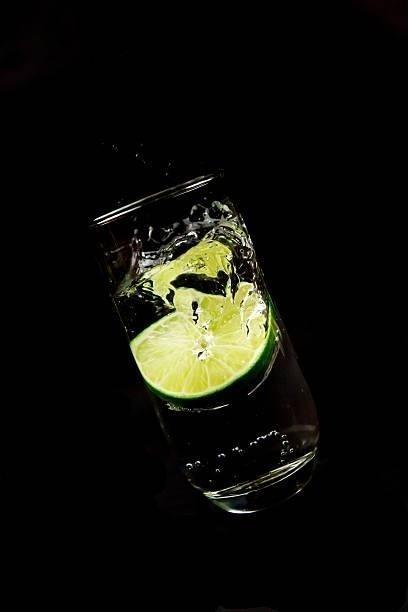glass-normal: (87, 168, 323, 518)
